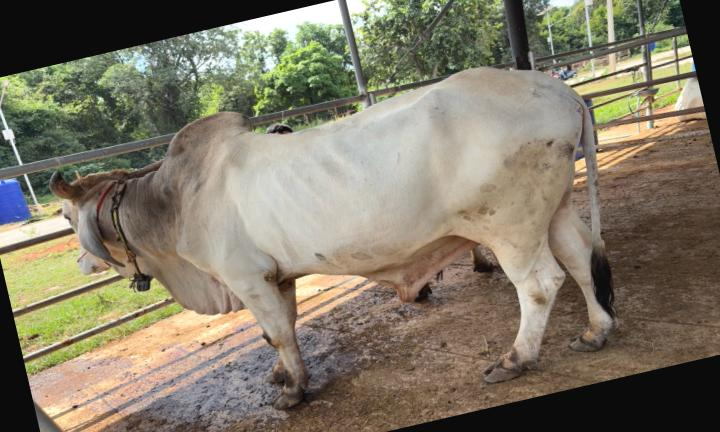Brahman: (50, 67, 618, 409)
